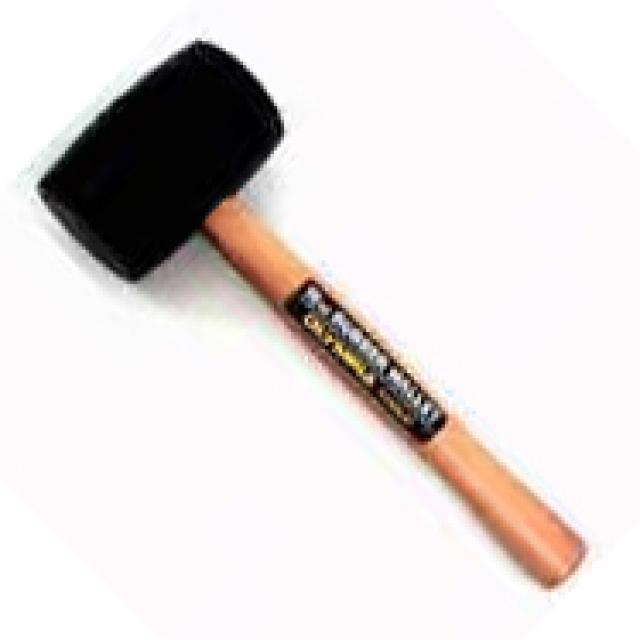hammer: (25, 30, 609, 598)
